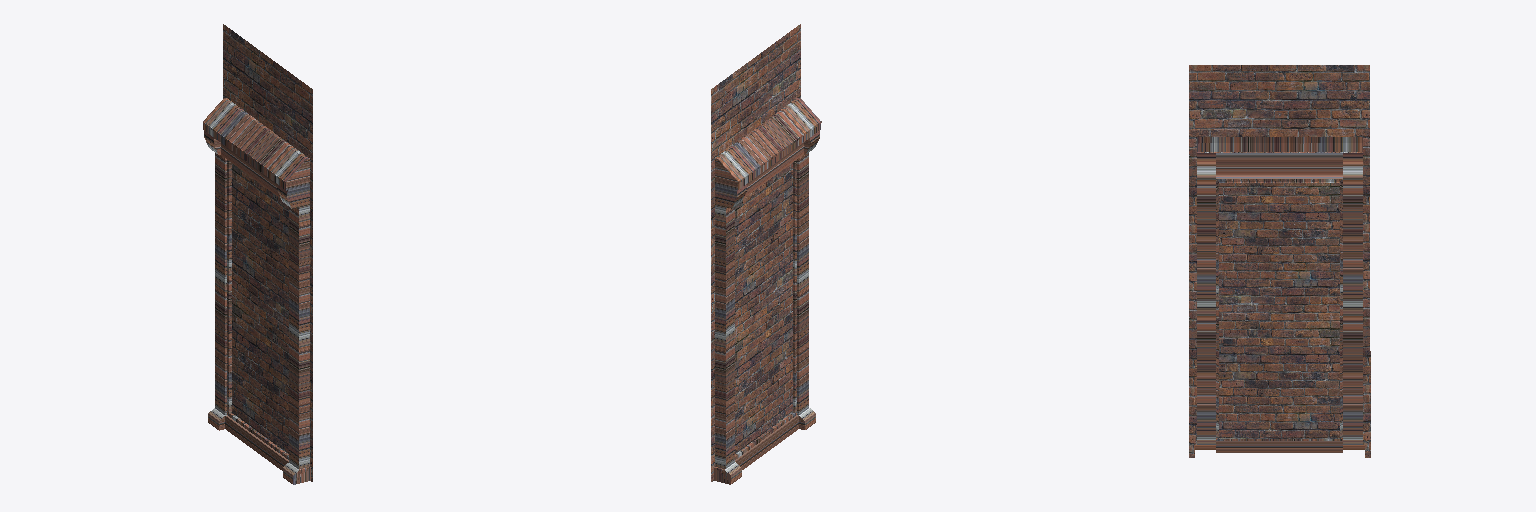
3 views of the same model, side by side, from view 1: azimuth 30°, elevation 25°; view 2: azimuth 150°, elevation 25°; view 3: azimuth 270°, elevation 25° (orthographic).
Visible parts, largest first — view 1: Door1; view 2: Door1; view 3: Door1.
Boxes of the visible parts, x1,y1,x2,y2 form: Door1: [203, 24, 312, 484]; Door1: [711, 24, 821, 484]; Door1: [1189, 65, 1370, 457].
Bounding box in the file's own units: 0.1911 × 3 × 1.25.
Materials: 1 (1 with a texture image).